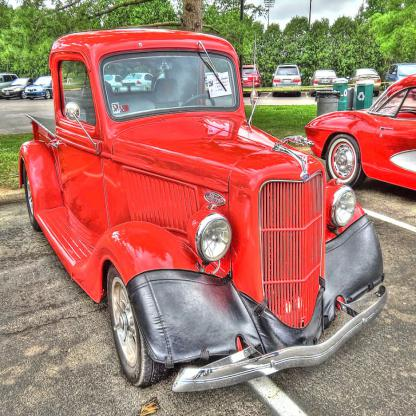Car: (0, 22, 416, 395)
